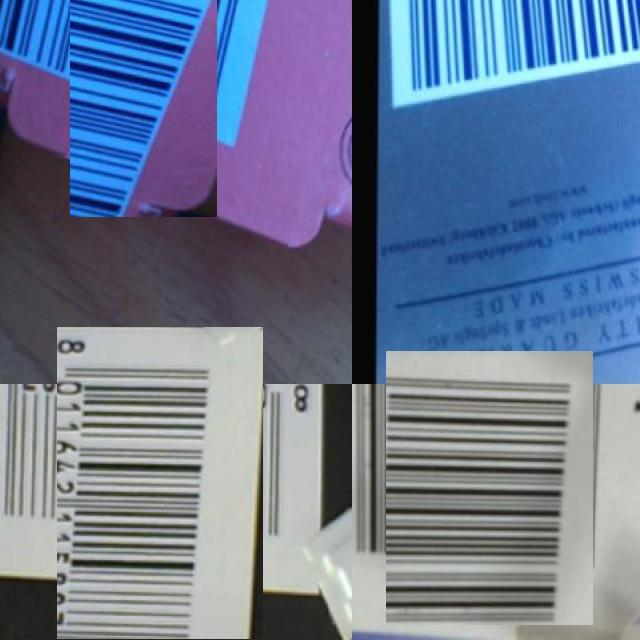Barcode: (29, 355, 292, 619), (369, 367, 610, 608), (35, 0, 251, 181), (381, 0, 639, 113)
